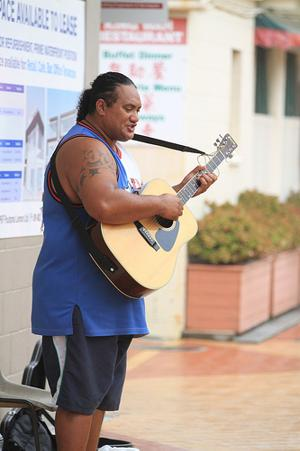person: (32, 72, 216, 450)
